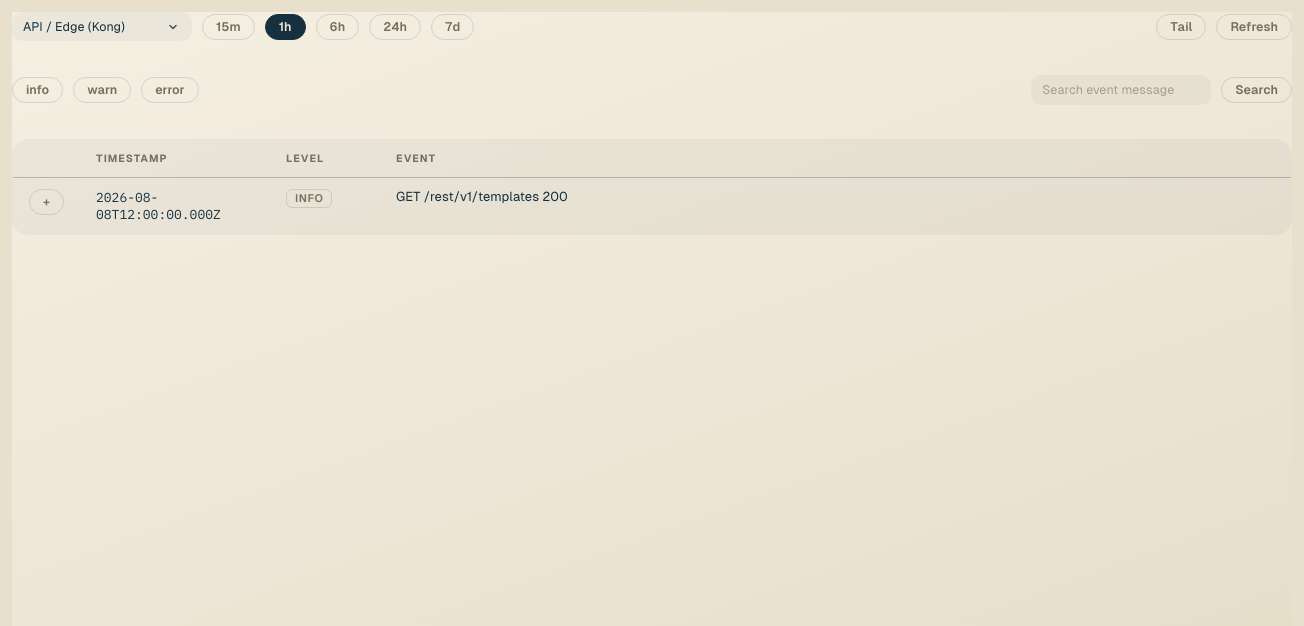
Test: LogsClient — render states › severity pills follow the selected source (hidden when it has none)
expect the button "warn" is shown: met, box [73,77,131,103]
Select "PostgREST" in the dropdown named "Log source" at (102, 26), box [12,12,192,41]
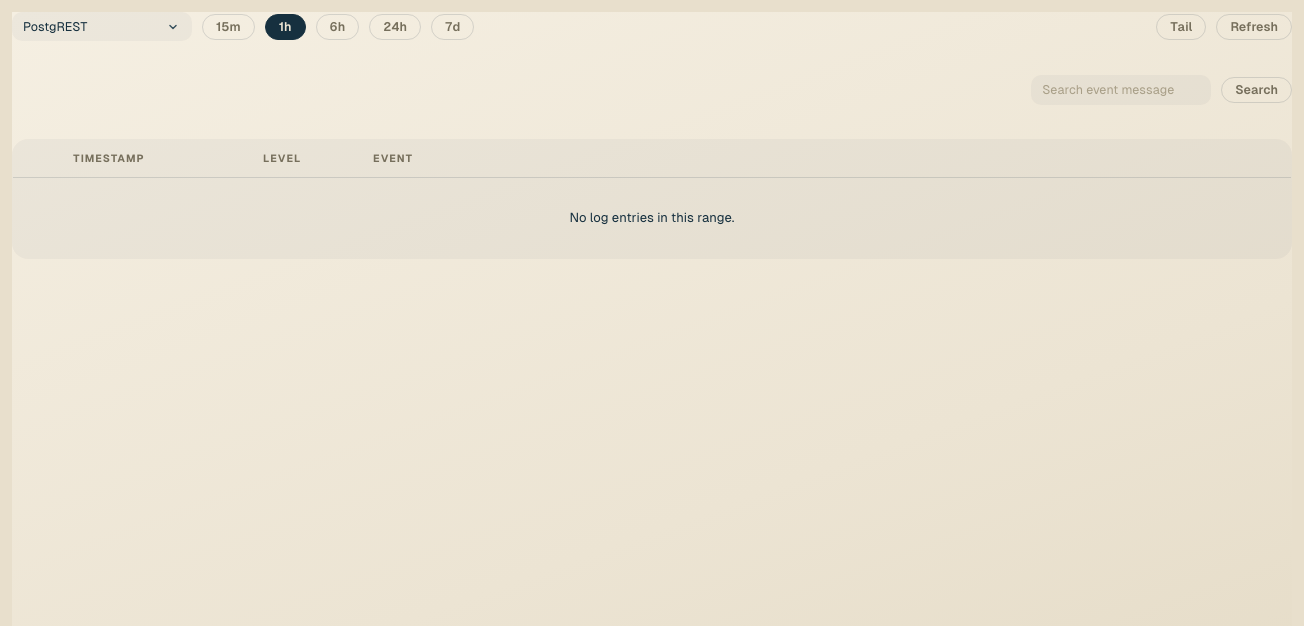
expect the button "warn" is gone: met
